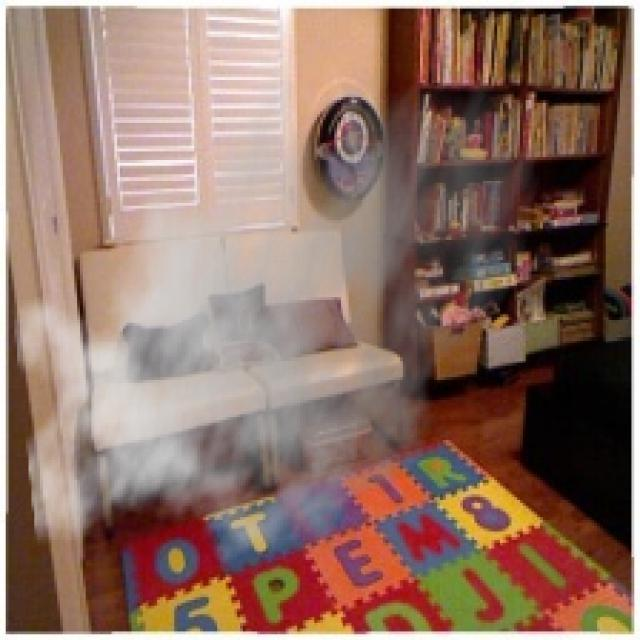Smoke: (11, 23, 543, 583)
